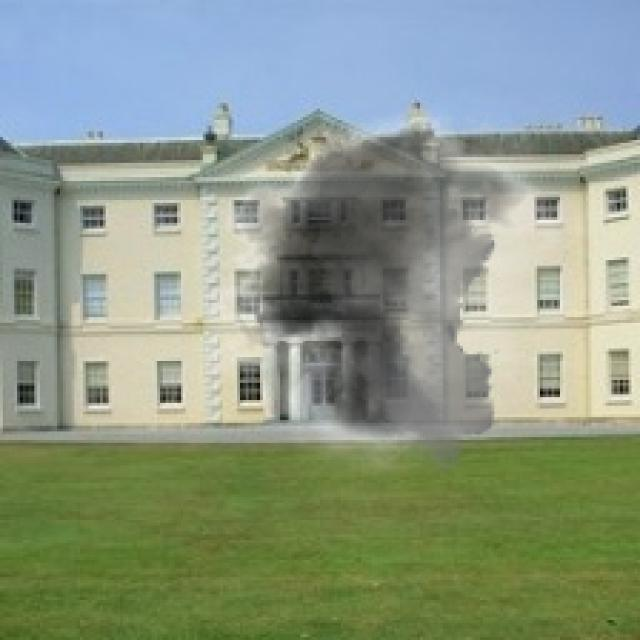smoke: (183, 89, 608, 474)
